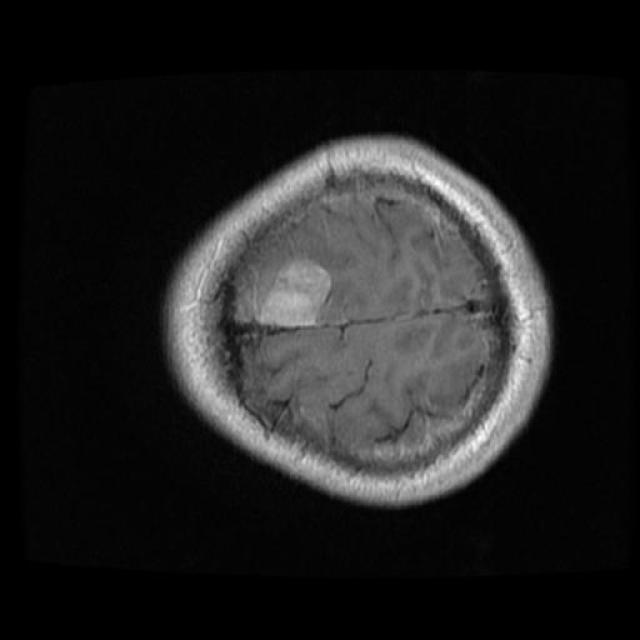Meningioma: (246, 252, 332, 328)
